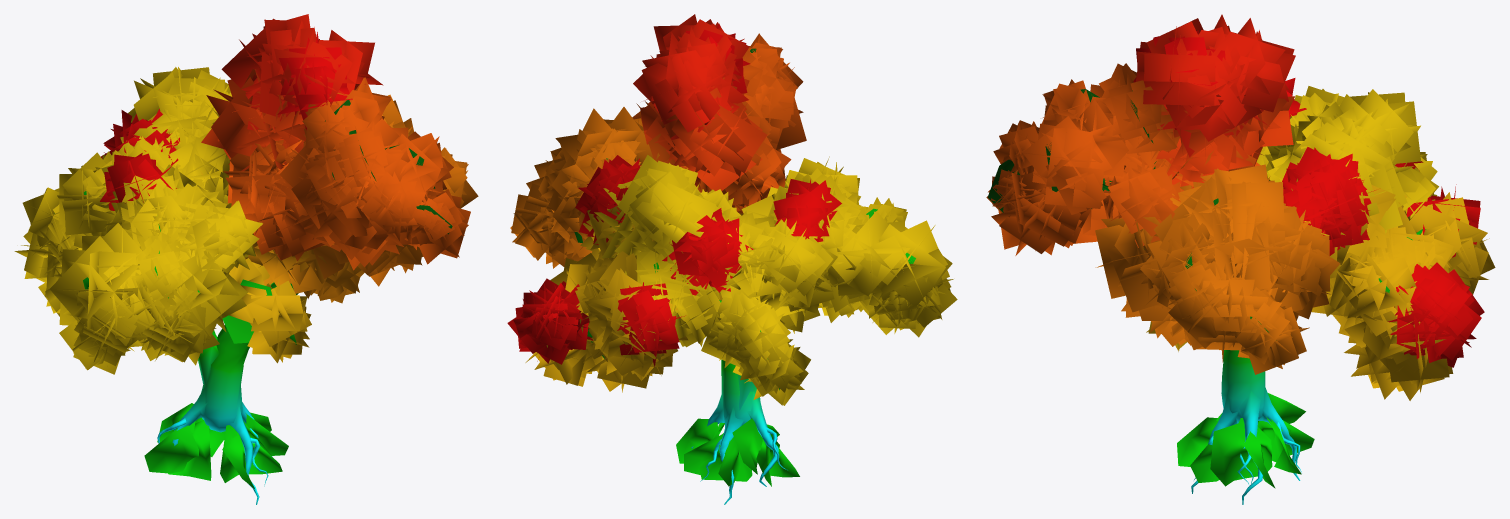
Rendered from BigTree1.fbx.
3 renders of one model, left to right at view 1: azimuth 30°, elevation 25°; view 2: azimuth 150°, elevation 25°; view 3: azimuth 270°, elevation 25°, orthographic. The views are drawn at different scales.
Visible parts, largest first — view 1: BigTree1_LOD0; view 2: BigTree1_LOD0; view 3: BigTree1_LOD0.
Boxes of the visible parts, <box> form: BigTree1_LOD0: <box>14,14,478,504</box>; BigTree1_LOD0: <box>507,14,957,504</box>; BigTree1_LOD0: <box>986,14,1495,504</box>.
Size of what is drawn, in the model's own units: 2498 by 2581 by 2368.
